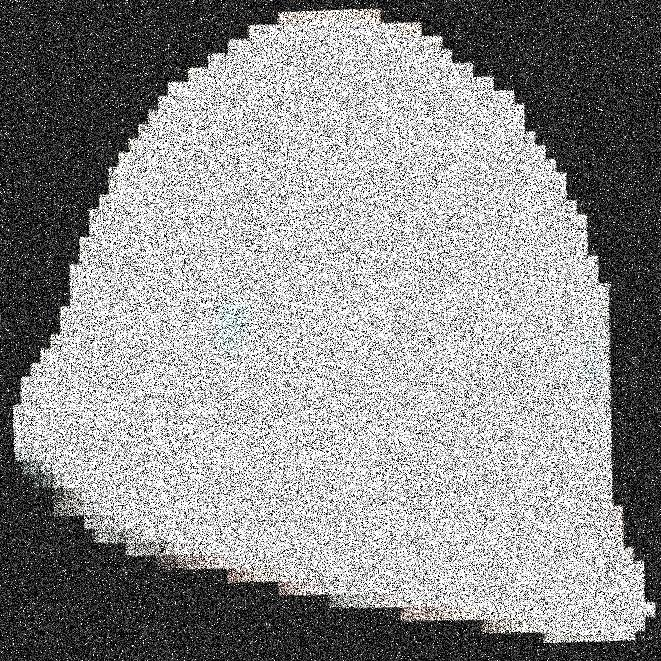Capacete: (184, 0, 598, 660)
